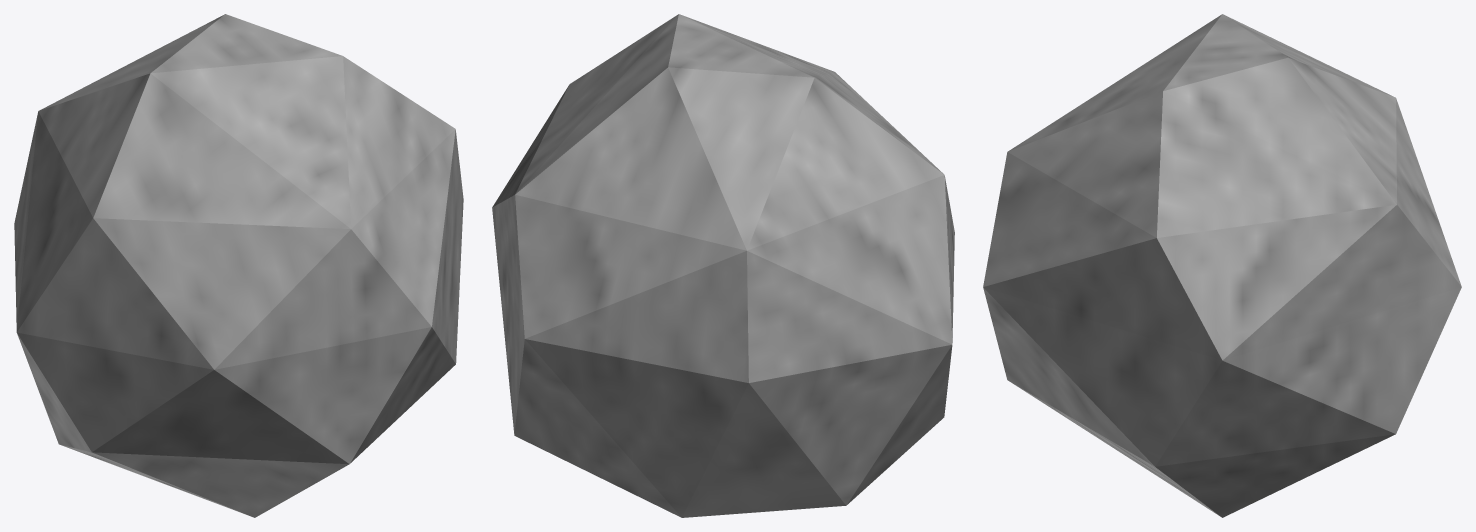
Rendered from asbestos_3.glb.
3 views of the same model, side by side, from view 1: azimuth 30°, elevation 25°; view 2: azimuth 150°, elevation 25°; view 3: azimuth 270°, elevation 25° (orthographic). The views are drawn at different scales.
Parts seen in each view (by area): view 1: Asbestos1; view 2: Asbestos1; view 3: Asbestos1.
Boxes of the visible parts, bbox=[...] form: Asbestos1: bbox=[14, 14, 463, 517]; Asbestos1: bbox=[492, 14, 954, 517]; Asbestos1: bbox=[983, 14, 1461, 517].
Bounding box in the file's own units: 0.1461 × 0.1392 × 0.139.
1 material, 1 textured.
